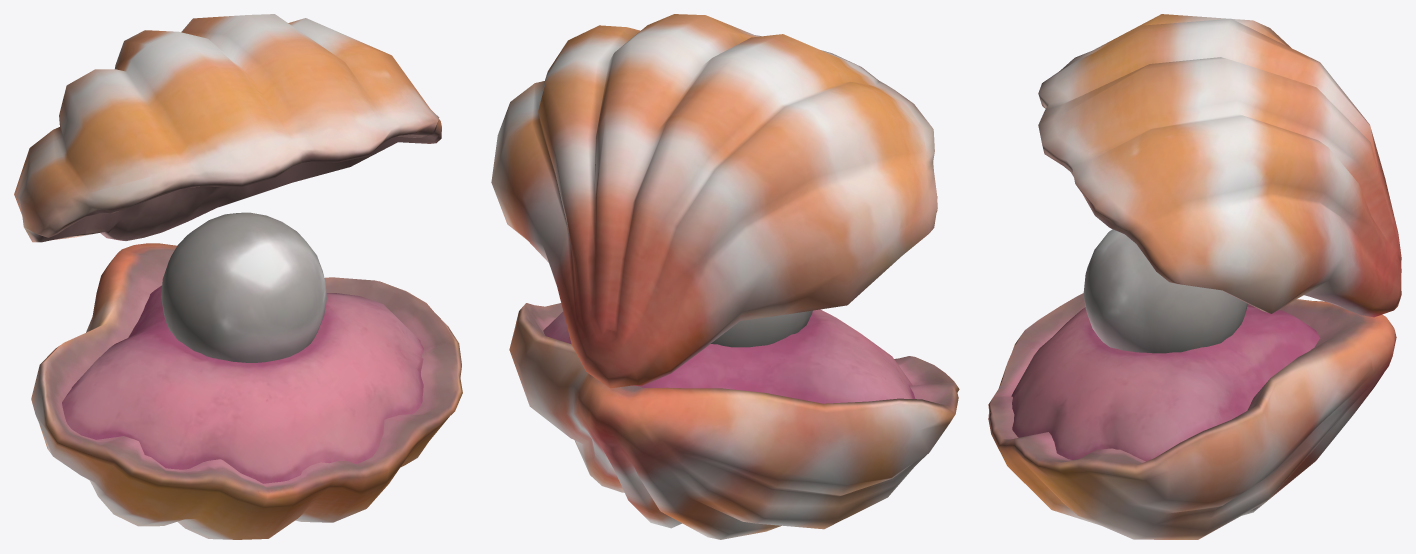
Rendered from oyster.glb.
The picture shows the model from 3 angles, left to right: view 1: azimuth 30°, elevation 25°; view 2: azimuth 150°, elevation 25°; view 3: azimuth 270°, elevation 25°; orthographic projection. The views are drawn at different scales.
Parts seen in each view (by area): view 1: Superior_low, FleshyThing_low, Inferior_low, Pearl_low; view 2: Superior_low, Inferior_low, FleshyThing_low, Pearl_low; view 3: Superior_low, Inferior_low, FleshyThing_low, Pearl_low.
Boxes of the visible parts, x1,y1,x2,y2 form: Superior_low: (14, 14, 441, 242); FleshyThing_low: (62, 285, 423, 483); Inferior_low: (31, 243, 462, 539); Pearl_low: (161, 212, 326, 362); Superior_low: (491, 14, 937, 388); Inferior_low: (509, 303, 959, 539); FleshyThing_low: (543, 309, 915, 403); Pearl_low: (711, 310, 812, 347); Superior_low: (1038, 14, 1401, 317); Inferior_low: (988, 293, 1396, 539); FleshyThing_low: (1011, 305, 1320, 461); Pearl_low: (1083, 229, 1247, 353).
Bounding box in the file's own units: 2.68 × 3 × 2.4.
Materials: 1 (1 with a texture image).
